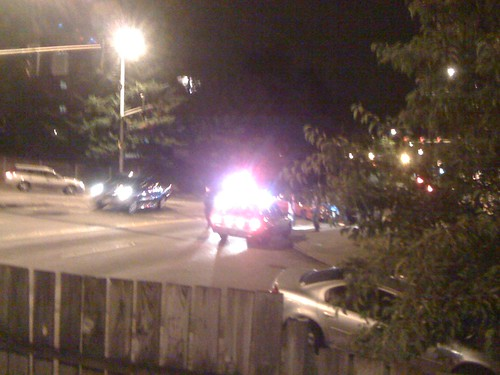car: (89, 177, 174, 224), (208, 192, 293, 239), (1, 152, 84, 199)
street: (1, 194, 334, 332)
tree: (359, 1, 500, 341), (78, 17, 191, 166)
